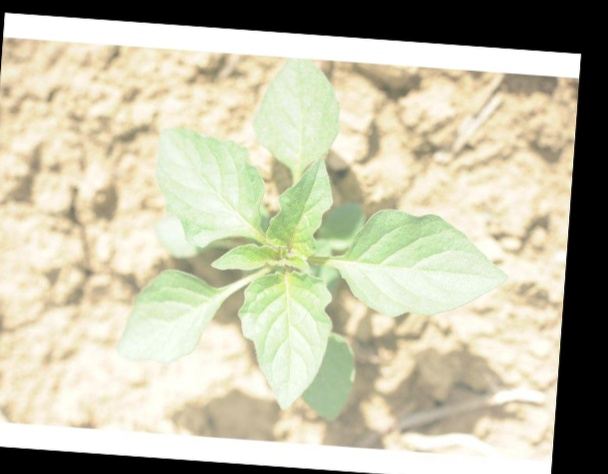nightshade: (122, 57, 506, 412)
